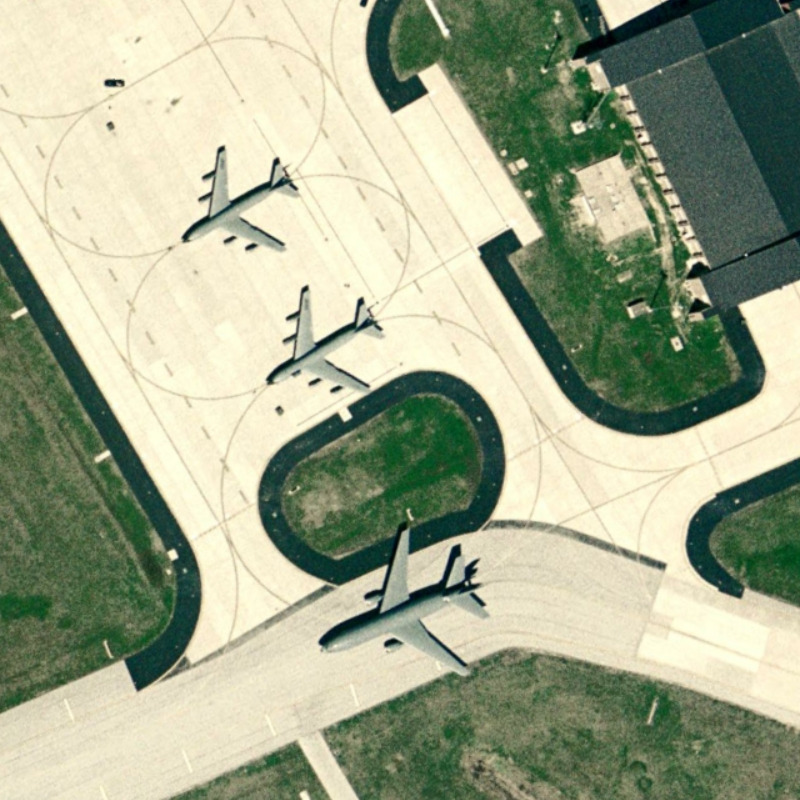A14: (174, 138, 306, 260), (259, 282, 389, 394)
A18: (313, 512, 493, 683)
